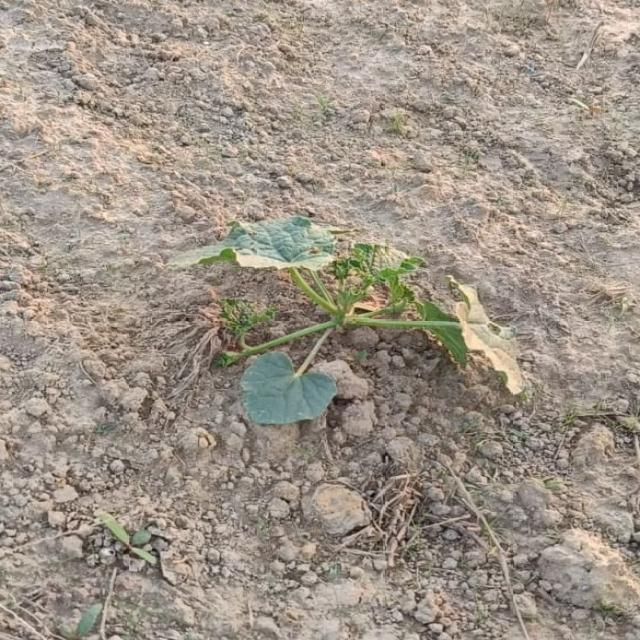plant: (173, 217, 525, 424)
